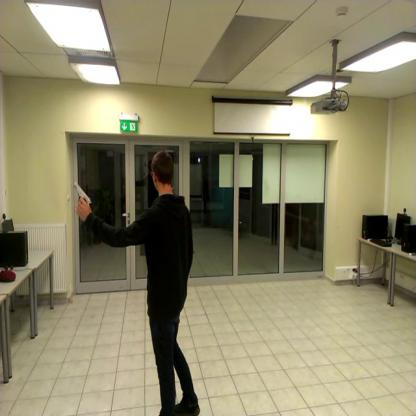Pistol: (74, 169, 92, 225)
